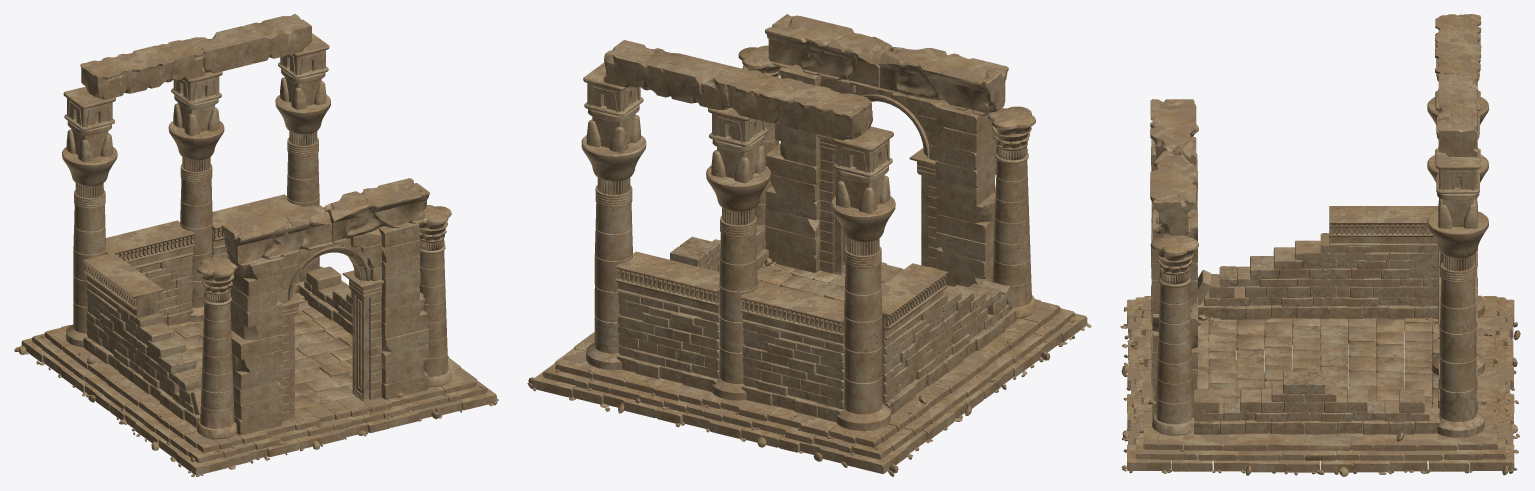
File: ruin_gatehouse.gltf
The picture shows the model from 3 angles, left to right: view 1: azimuth 30°, elevation 25°; view 2: azimuth 150°, elevation 25°; view 3: azimuth 270°, elevation 25°; orthographic projection. The views are drawn at different scales.
Parts seen in each view (by area): view 1: egyptian_ruins_10_iray; view 2: egyptian_ruins_10_iray; view 3: egyptian_ruins_10_iray.
Part boxes in pixels (x1,y1,x2,y2): egyptian_ruins_10_iray: [14, 14, 498, 476]; egyptian_ruins_10_iray: [527, 14, 1091, 476]; egyptian_ruins_10_iray: [1120, 14, 1520, 476].
Size of the model in its own units: 11.43 by 9.86 by 11.21.
Materials: 3 (3 with a texture image).
